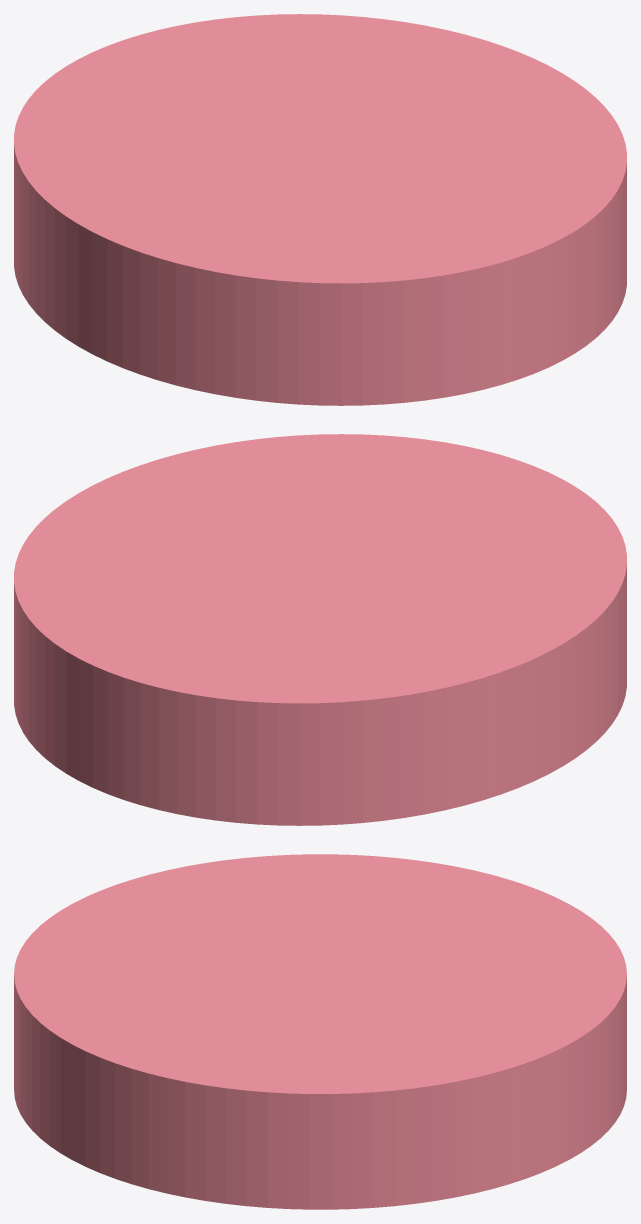
The model's file is bottom3.gltf.
3 renders of one model, top to bottom at view 1: azimuth 30°, elevation 25°; view 2: azimuth 150°, elevation 25°; view 3: azimuth 270°, elevation 25°, orthographic. The views are drawn at different scales.
Parts seen in each view (by area): view 1: bottom3; view 2: bottom3; view 3: bottom3.
Boxes of the visible parts, x1,y1,x2,y2 form: bottom3: [14, 14, 626, 405]; bottom3: [14, 434, 626, 825]; bottom3: [14, 854, 626, 1209].
Size of the model in its own units: 3.92 by 0.8814 by 4.23.
